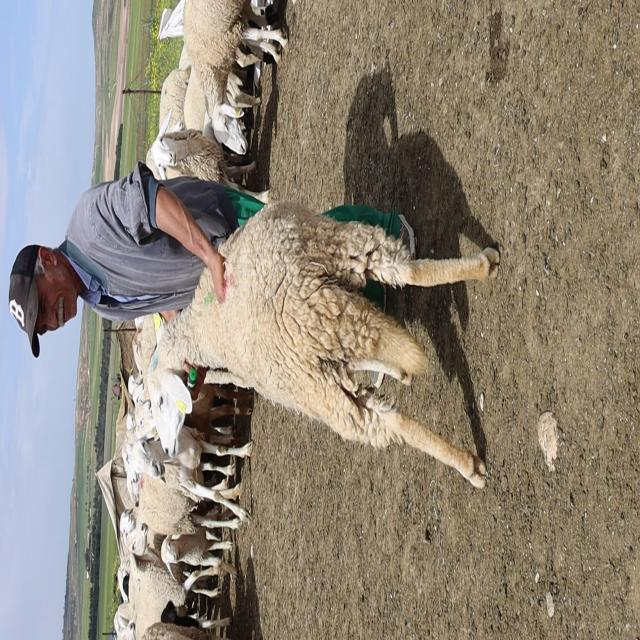Score_2: (147, 202, 499, 488)
